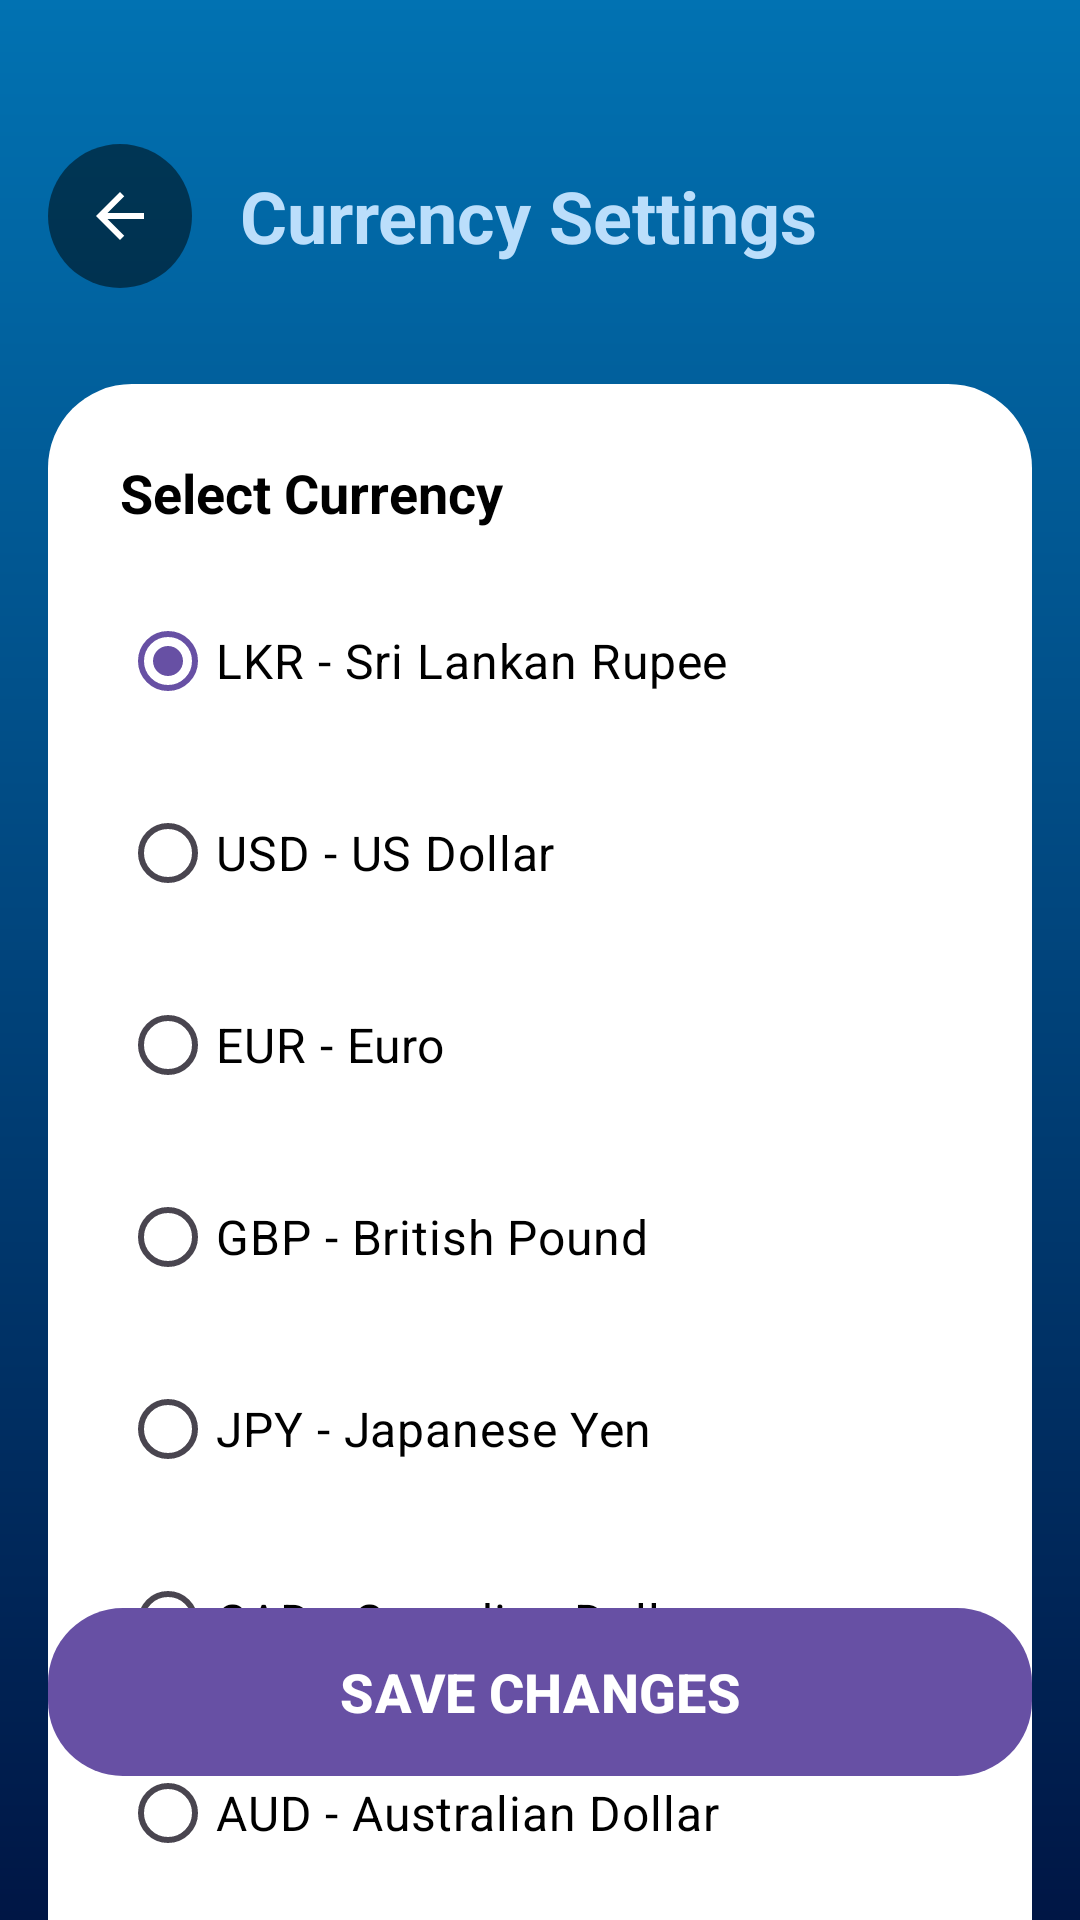

Icons on this 1080w x 1920h Android screen, each with its box as (x1, y1, x2, y2):
Back button: (48, 144, 192, 288)
